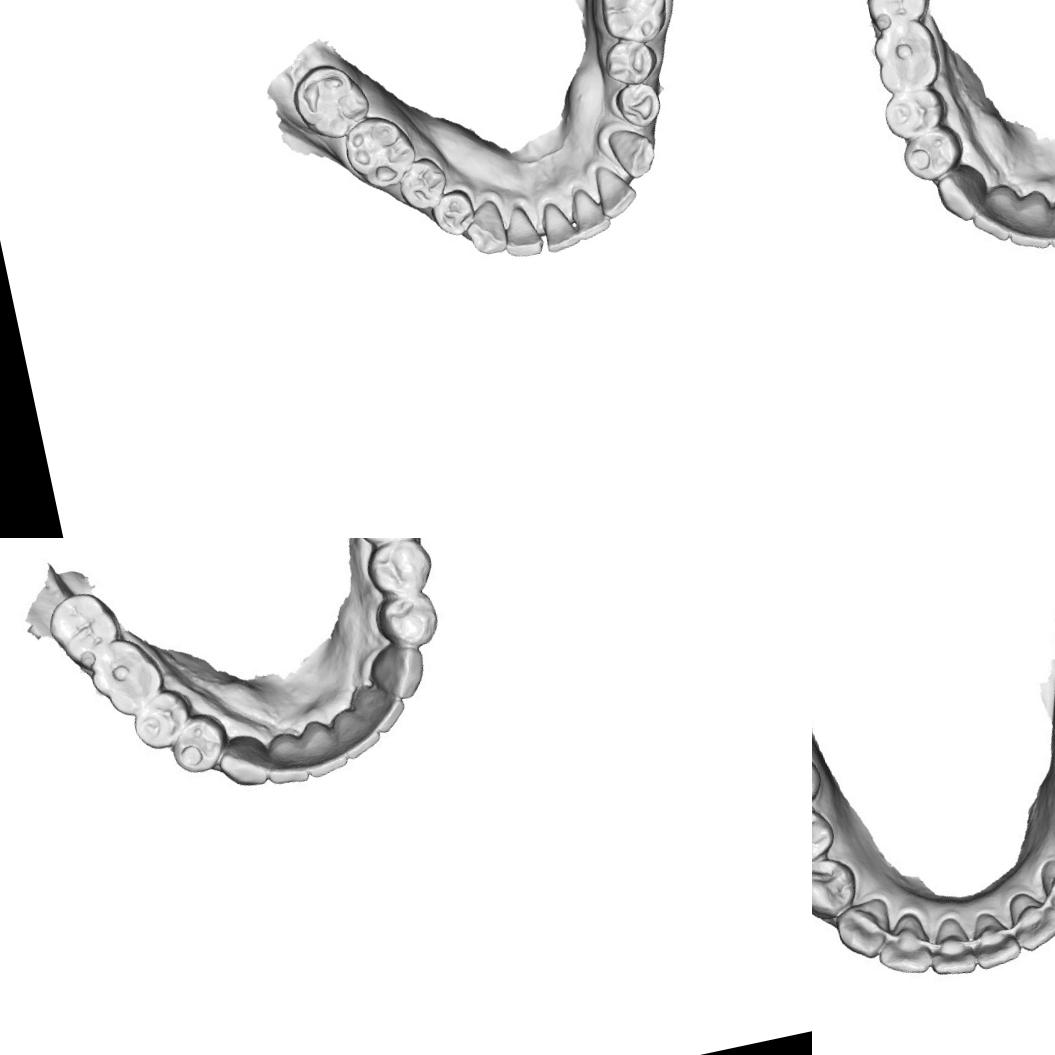canine: (368, 638, 432, 706), (933, 163, 992, 230), (604, 122, 662, 184), (834, 895, 888, 959), (459, 196, 510, 261), (216, 734, 272, 790), (1040, 853, 1055, 913)
incisor: (965, 178, 1031, 246), (922, 906, 981, 978), (874, 911, 933, 975), (1002, 184, 1055, 254), (1004, 884, 1055, 953), (262, 726, 316, 788), (352, 681, 408, 738), (299, 716, 350, 778), (564, 182, 615, 243), (592, 158, 640, 222), (498, 201, 546, 262), (534, 196, 582, 256), (334, 706, 385, 762), (972, 907, 1018, 968), (1043, 190, 1055, 255)
molar: (280, 53, 370, 138), (338, 108, 423, 197), (46, 587, 123, 671), (88, 637, 162, 722), (865, 15, 943, 94), (592, 0, 673, 50), (859, 0, 929, 29)
premolar: (364, 538, 436, 603), (882, 78, 946, 142), (166, 712, 228, 777), (379, 587, 443, 649), (392, 152, 453, 216), (130, 687, 194, 747), (598, 34, 662, 90), (902, 125, 962, 183), (611, 78, 668, 134), (812, 852, 859, 919), (428, 184, 480, 242), (812, 806, 834, 868)
